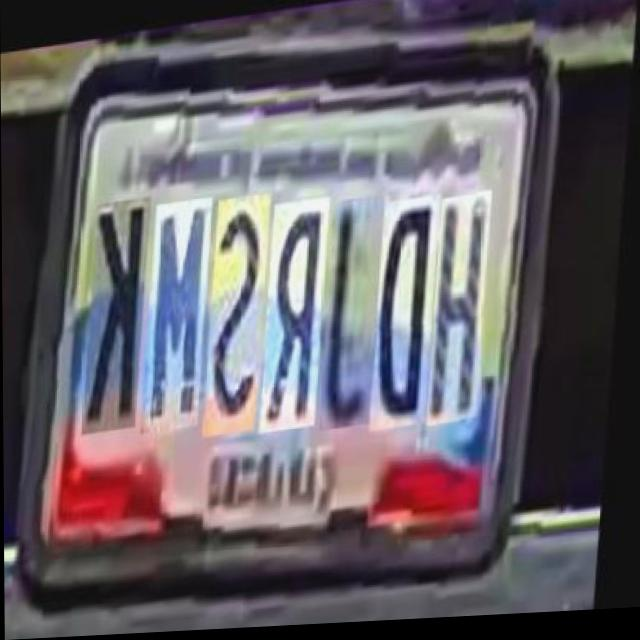d: (374, 195, 446, 430)
h: (430, 194, 497, 427)
j: (323, 196, 390, 428)
k: (86, 188, 156, 424)
m: (145, 189, 218, 426)
r: (263, 194, 335, 429)
s: (207, 189, 275, 432)
